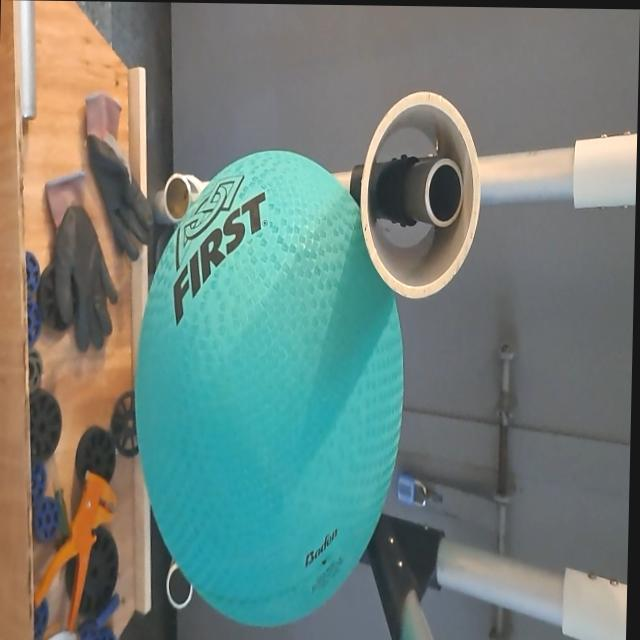ALGAE: (128, 143, 412, 633)
CORAL: (357, 85, 485, 302)
